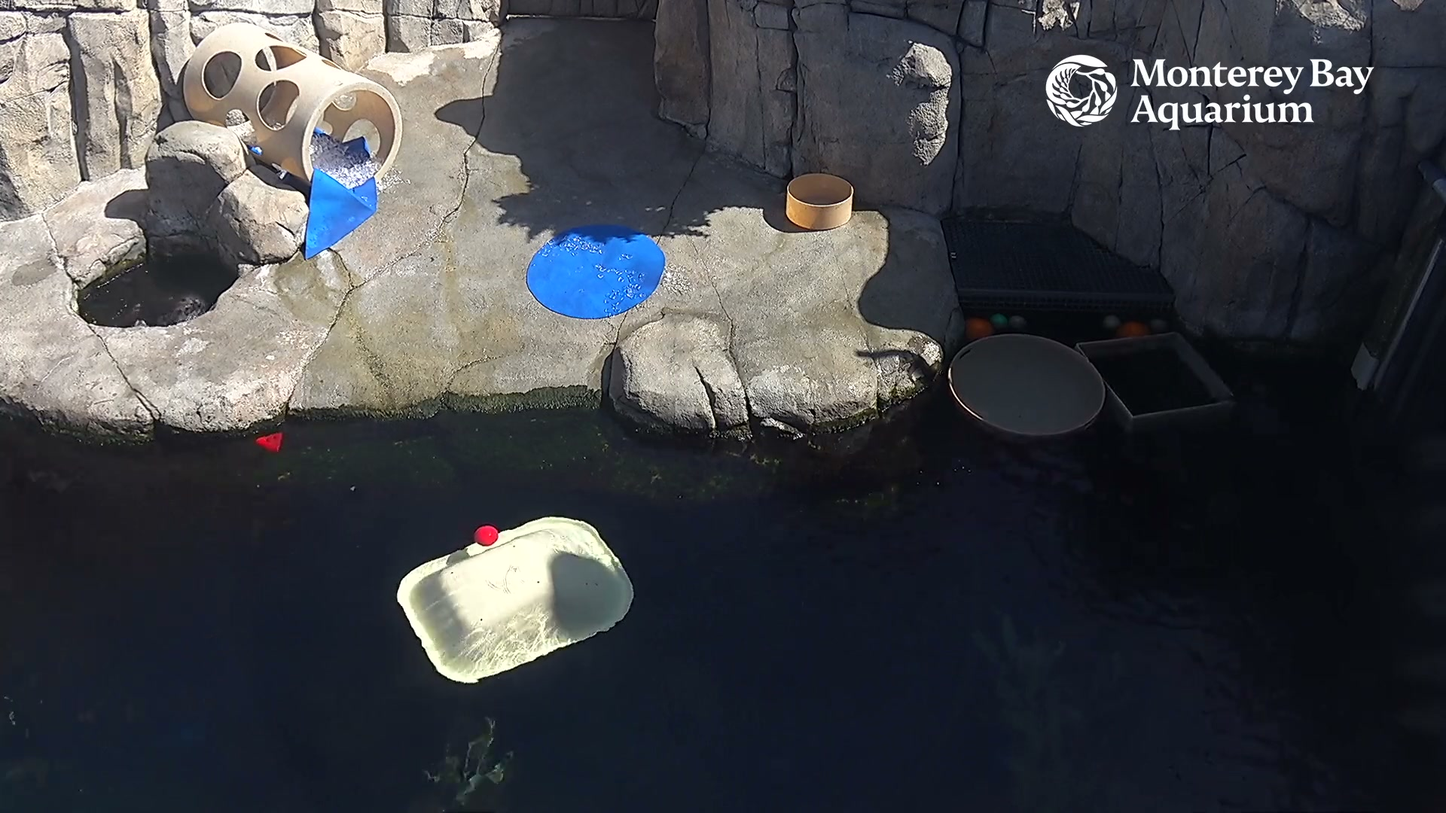Southern Sea Otter: (117, 283, 225, 343)
